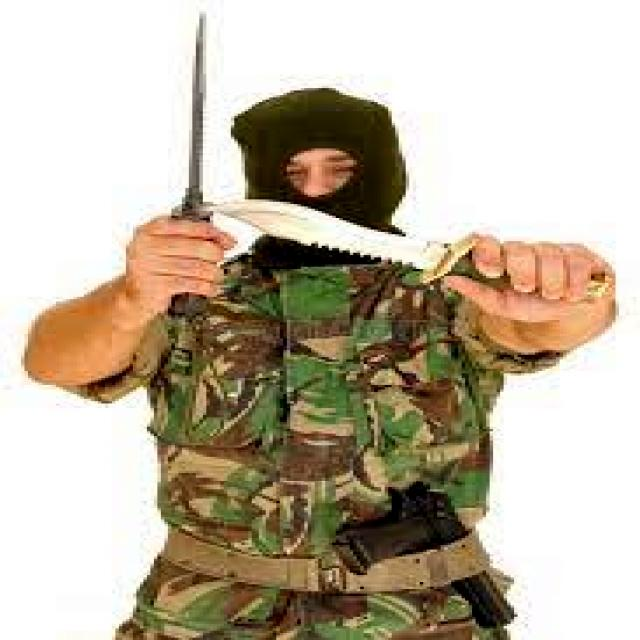long sword: (164, 6, 228, 382)
